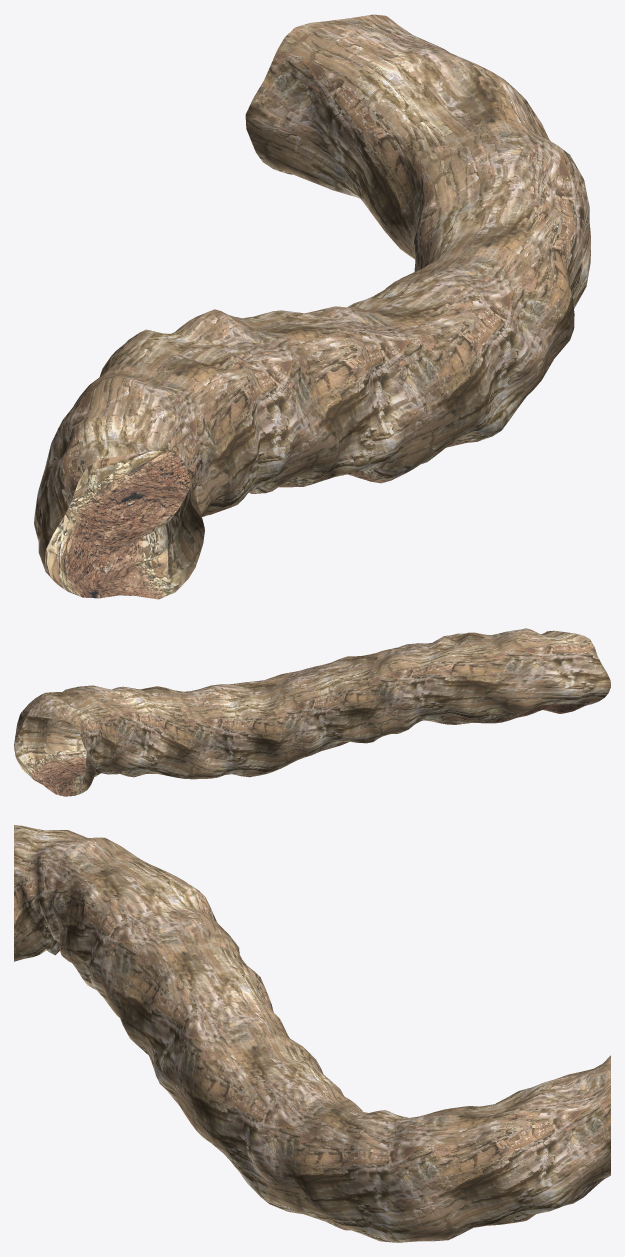
Rendered from thm_tato_cave_s01_r4_mesh_r4.fbx.
The picture shows the model from 3 angles, top to bottom: view 1: azimuth 30°, elevation 25°; view 2: azimuth 150°, elevation 25°; view 3: azimuth 270°, elevation 25°; orthographic projection. The views are drawn at different scales.
Parts seen in each view (by area): view 1: mesh_node; view 2: mesh_node; view 3: mesh_node.
Part boxes in pixels (x1=…): mesh_node: x1=34, y1=14, x2=590, y2=599; mesh_node: x1=14, y1=628, x2=610, y2=796; mesh_node: x1=14, y1=825, x2=610, y2=1242.
Bounding box in the file's own units: 54.56 × 17.45 × 47.
